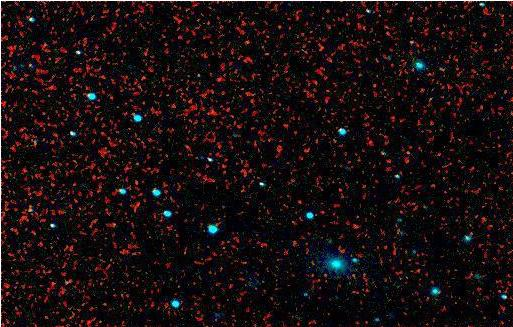star: (392, 136, 422, 166)
